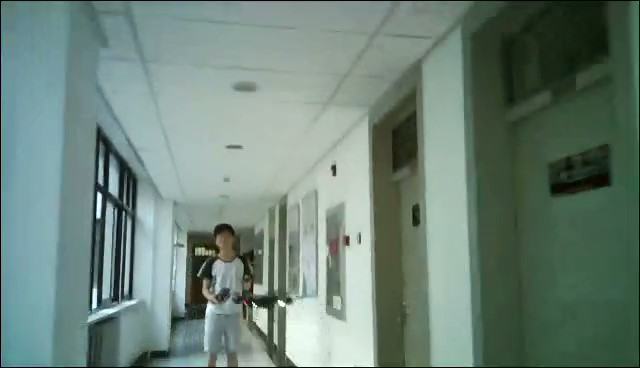drone: (233, 290, 294, 311)
person: (197, 223, 255, 367)
